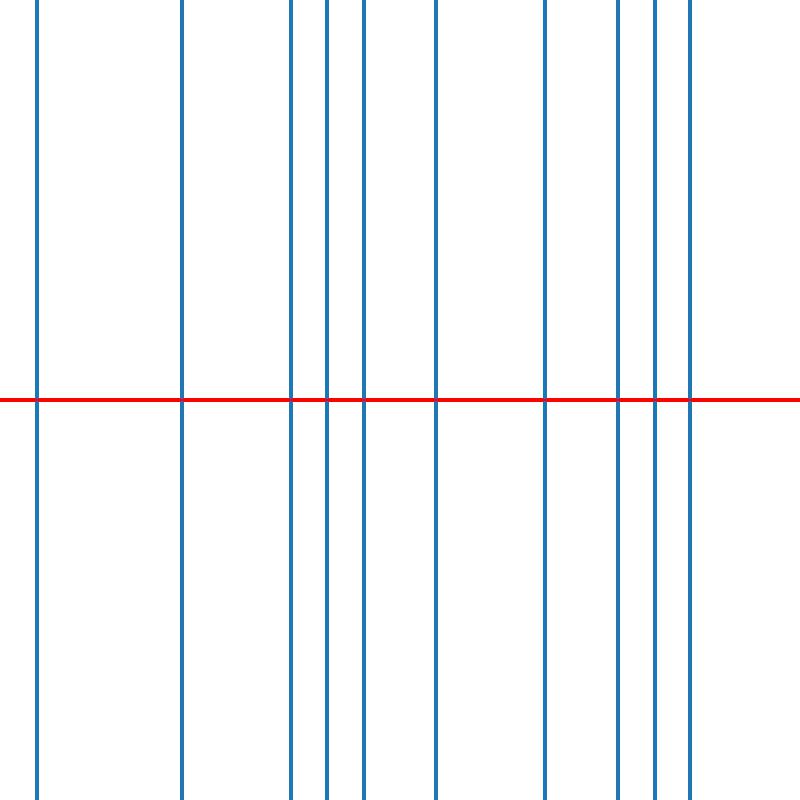root: (432, 396, 440, 404), (32, 396, 40, 404), (541, 396, 549, 404), (650, 396, 658, 404), (287, 396, 294, 404), (360, 396, 367, 404), (687, 396, 694, 404), (178, 396, 185, 404), (323, 396, 330, 404), (614, 396, 621, 404)
